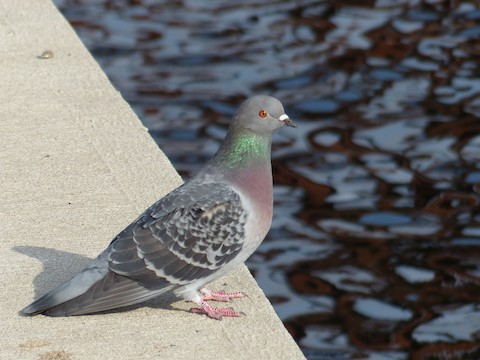pigeon: (17, 82, 300, 327)
